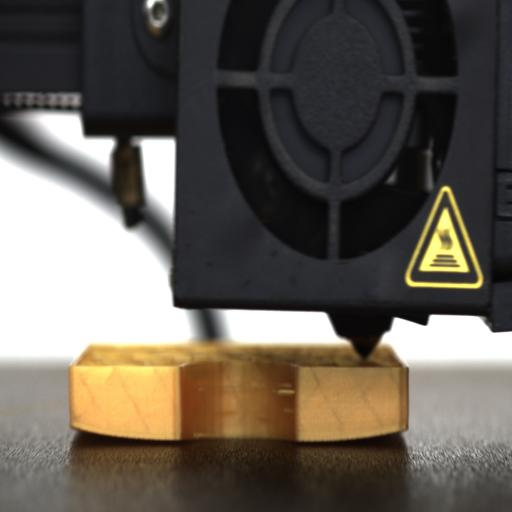warp: (294, 417, 412, 448), (66, 418, 136, 442)
